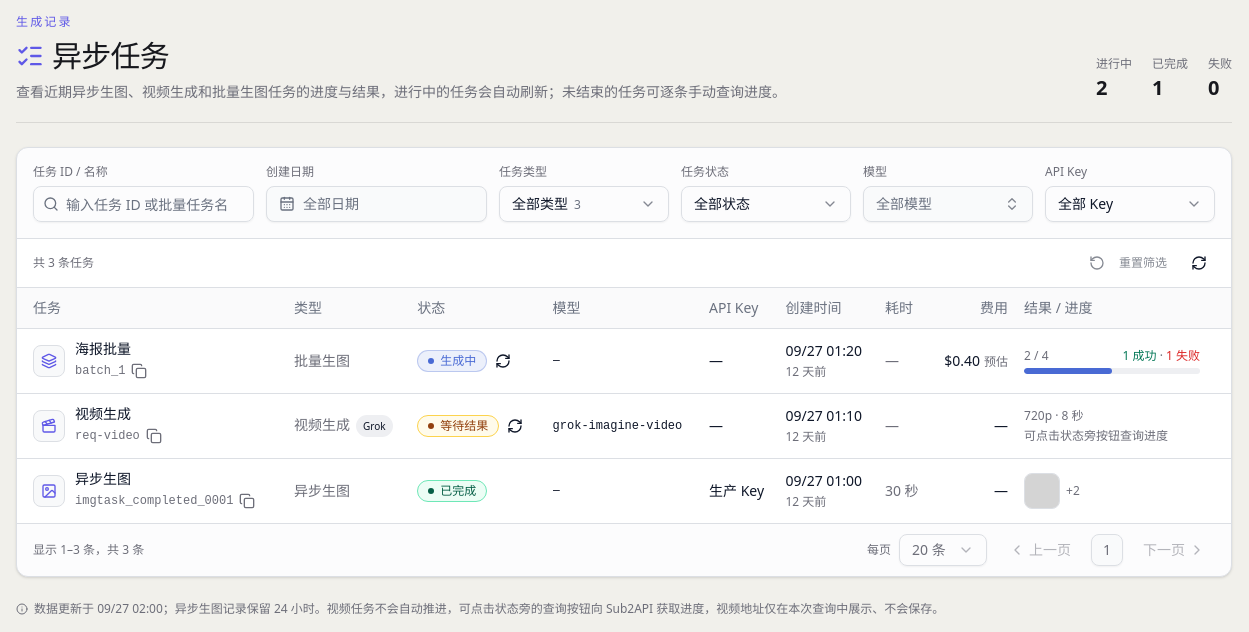
Scenario: AsyncTasksPortalPage › single task refresh › keeps an upstream failure for the session even though the list still shows pending
The image size is (1249, 632).
Click the button named "查询任务进度" next to "等待结果". click: (515, 426)
box: [503,414,527,438]
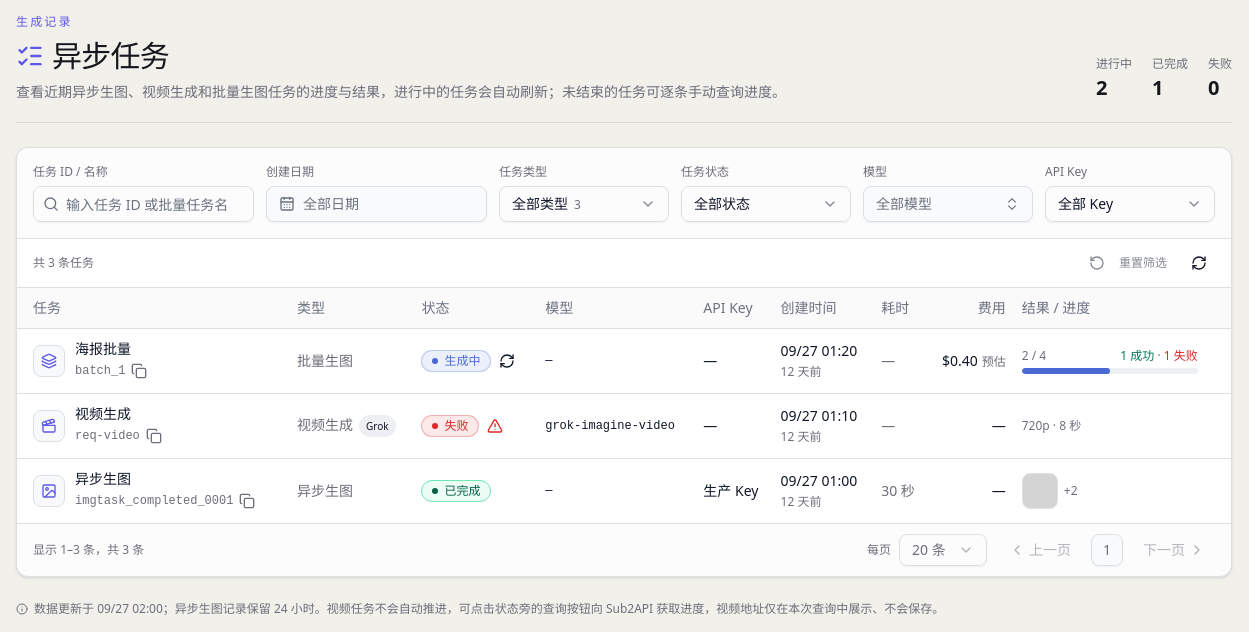
Expected: the text "失败" is shown, [421,414,479,436]
Expected: the button named "失败原因：上游任务已过期" is shown, [483,414,507,438]
